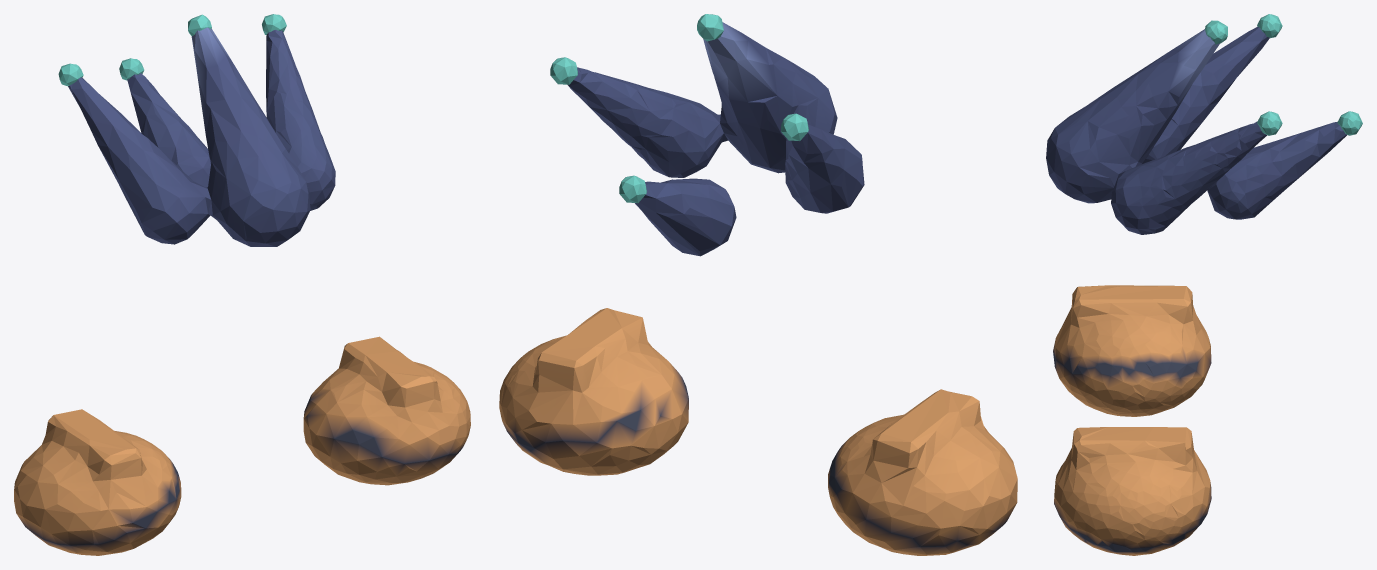
Rendered from tenue_braise.glb.
The picture shows the model from 3 angles, left to right: view 1: azimuth 30°, elevation 25°; view 2: azimuth 150°, elevation 25°; view 3: azimuth 270°, elevation 25°; orthographic projection. The views are drawn at different scales.
Visible parts, largest first — view 1: head__coiffe_hair, arm_l__epaule, arm_r__epaule, head__coiffe_glow; view 2: head__coiffe_hair, arm_l__epaule, arm_r__epaule, head__coiffe_glow; view 3: head__coiffe_hair, arm_r__epaule, arm_l__epaule, head__coiffe_glow.
Part boxes in pixels (x1,y1,x2,y2): head__coiffe_hair: [68, 27, 335, 246]; arm_l__epaule: [303, 336, 470, 485]; arm_r__epaule: [14, 409, 181, 555]; head__coiffe_glow: [58, 14, 286, 86]; head__coiffe_hair: [567, 22, 864, 256]; arm_l__epaule: [499, 308, 688, 475]; arm_r__epaule: [828, 389, 1017, 555]; head__coiffe_glow: [550, 14, 808, 203]; head__coiffe_hair: [1046, 26, 1346, 234]; arm_r__epaule: [1053, 285, 1211, 416]; arm_l__epaule: [1054, 427, 1211, 555]; head__coiffe_glow: [1205, 14, 1362, 135].
Bounding box in the file's own units: 0.7401 × 0.7486 × 0.4733.
